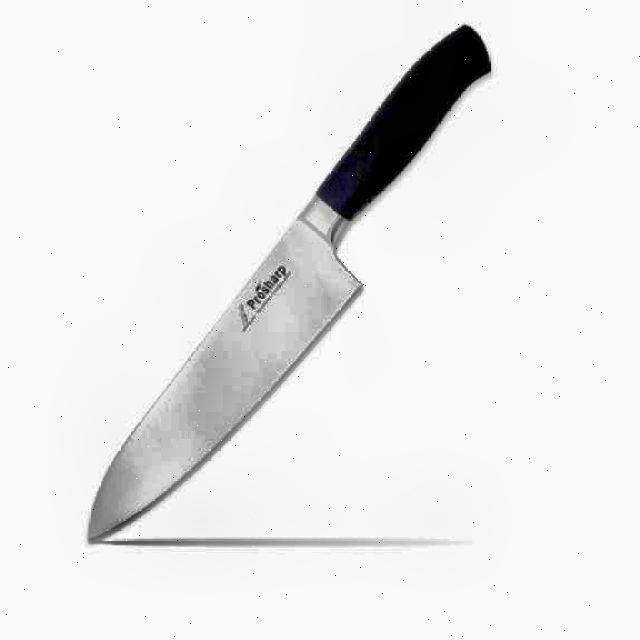knife: (79, 19, 494, 545)
